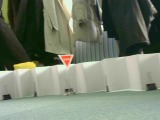stop: (58, 54, 74, 68)
